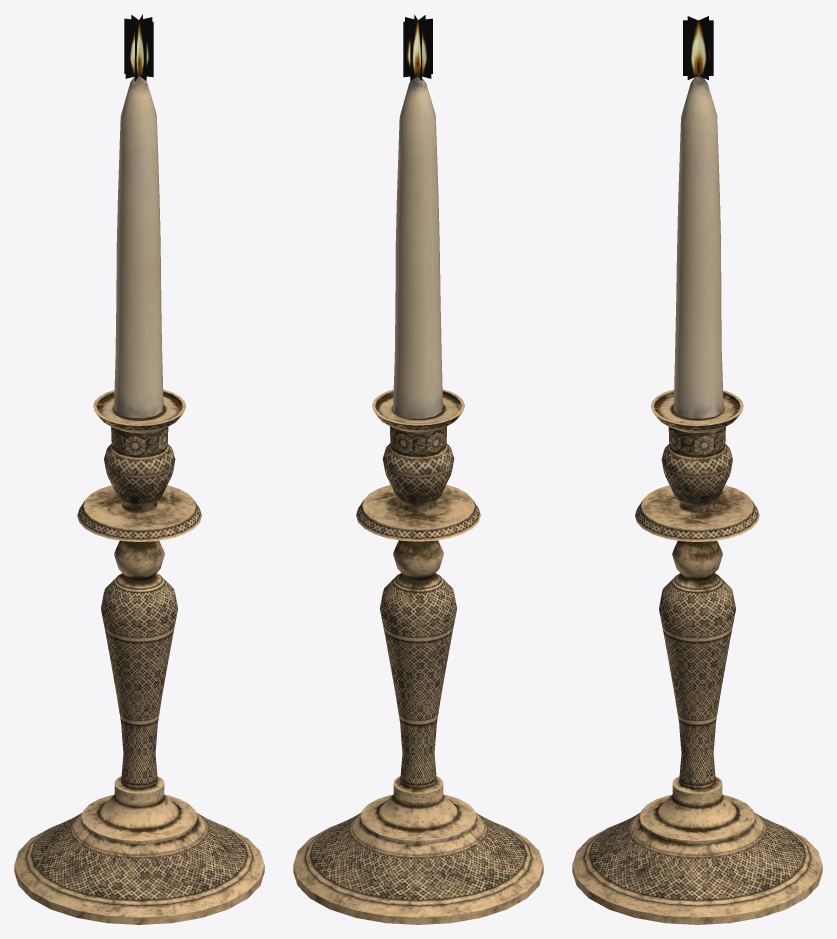
Rendered from candle.glb.
3 views of the same model, side by side, from view 1: azimuth 30°, elevation 25°; view 2: azimuth 150°, elevation 25°; view 3: azimuth 270°, elevation 25° (orthographic).
Parts seen in each view (by area): view 1: brass_candleholder_01; view 2: brass_candleholder_01; view 3: brass_candleholder_01.
Boxes of the visible parts, box(x1,y1,x2,y2) form: brass_candleholder_01: box(14, 14, 264, 924); brass_candleholder_01: box(293, 15, 543, 924); brass_candleholder_01: box(572, 16, 822, 924).
Size of the model in its own units: 0.0974 by 0.3655 by 0.0974.
2 materials, 2 textured.
